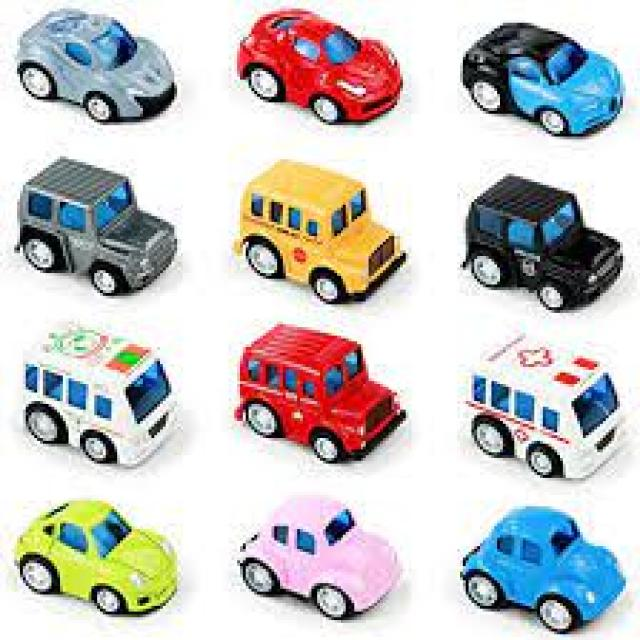Car: (231, 156, 406, 304), (231, 322, 406, 464), (460, 330, 626, 478), (12, 154, 177, 296), (20, 318, 177, 466), (460, 171, 623, 310), (234, 492, 403, 620), (457, 504, 626, 632), (234, 6, 403, 122), (12, 498, 177, 614), (460, 20, 623, 136), (14, 6, 174, 122)
